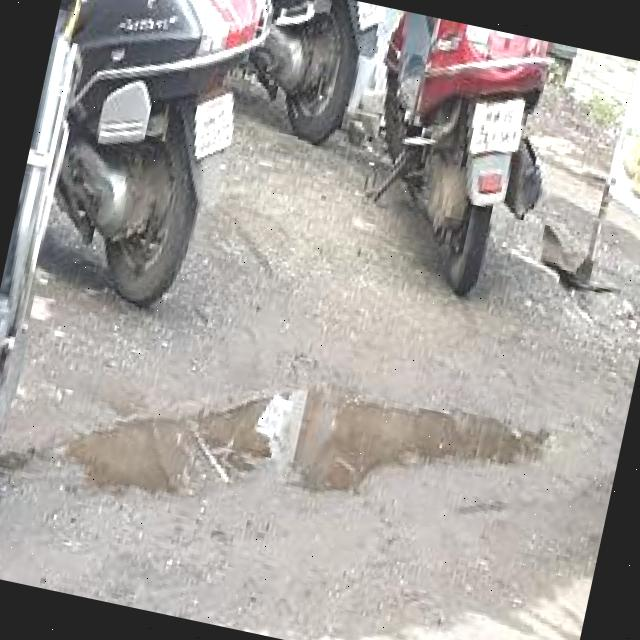waterlogging: (49, 322, 564, 565)
